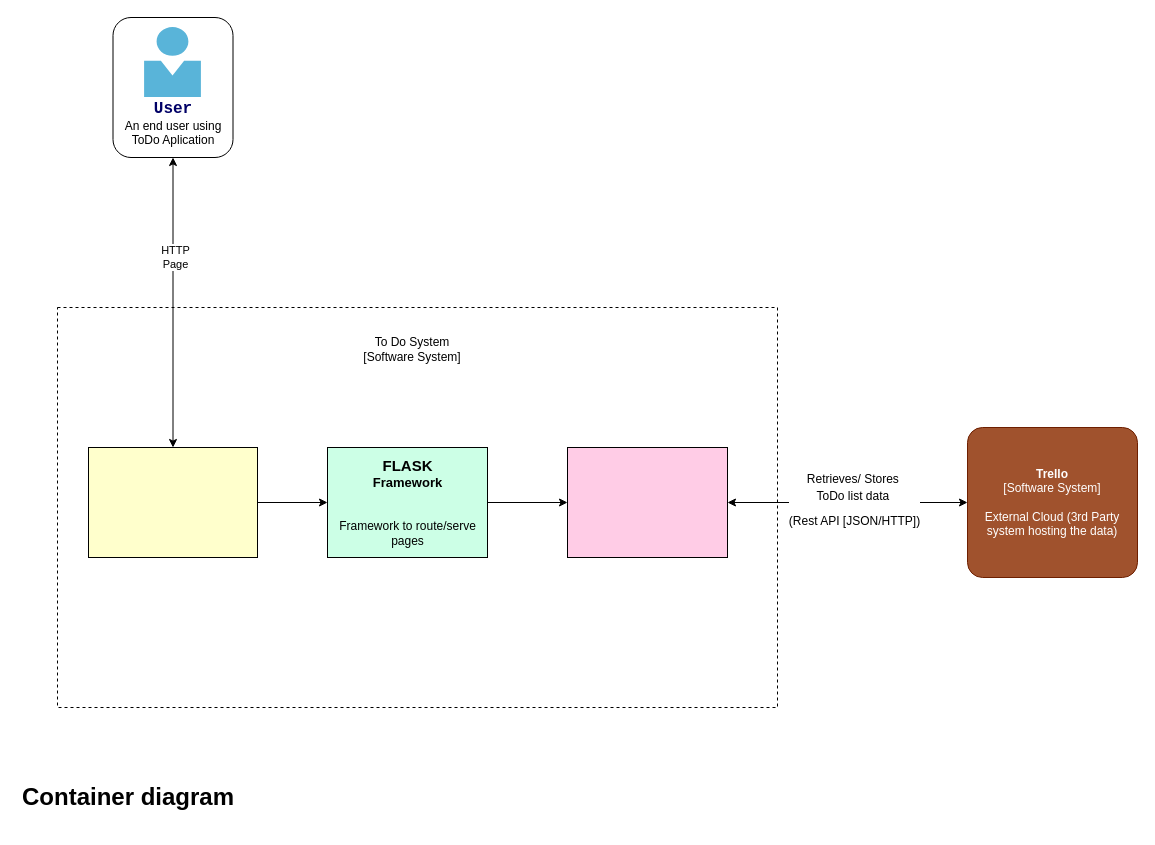
This 1155x845 diagram has some shape labels left out. The shapes that lost their labels are listed below. From the top down, each one's centre as x and y in pixels, then its label:
the point at 173,502: GUNICORN WSGI Server Gateway between user and Web app
the point at 647,502: To Do App Python code Provides functionality to manage To Do App via HTTP
